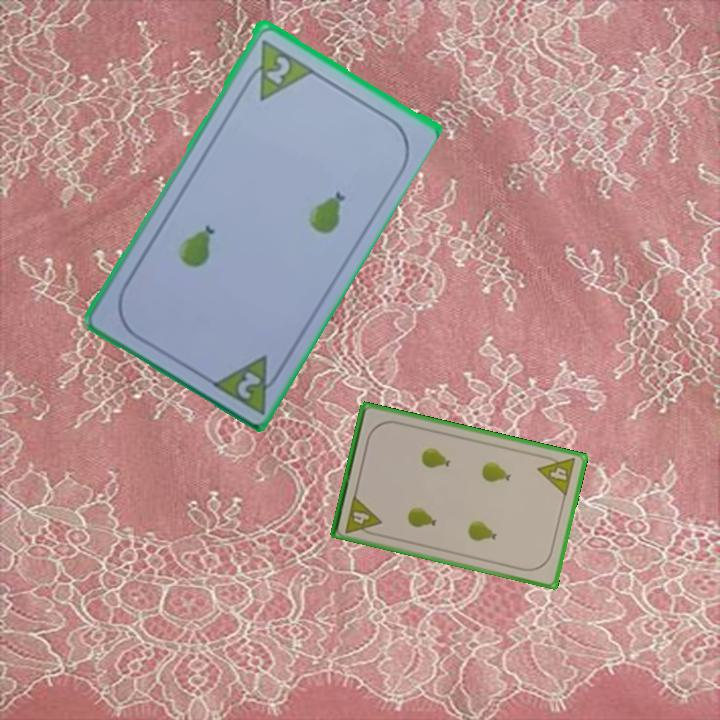2p: (262, 51, 293, 87), (233, 366, 264, 402)
4p: (534, 451, 579, 499), (342, 492, 384, 539)
